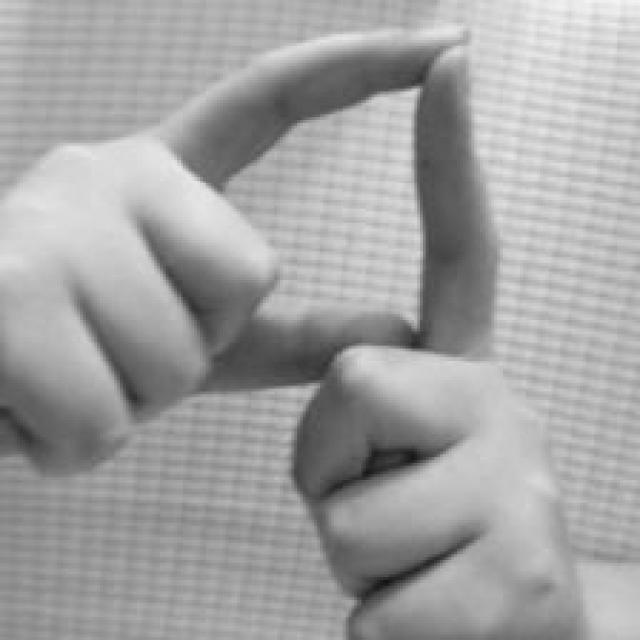D: (5, 17, 584, 640)
